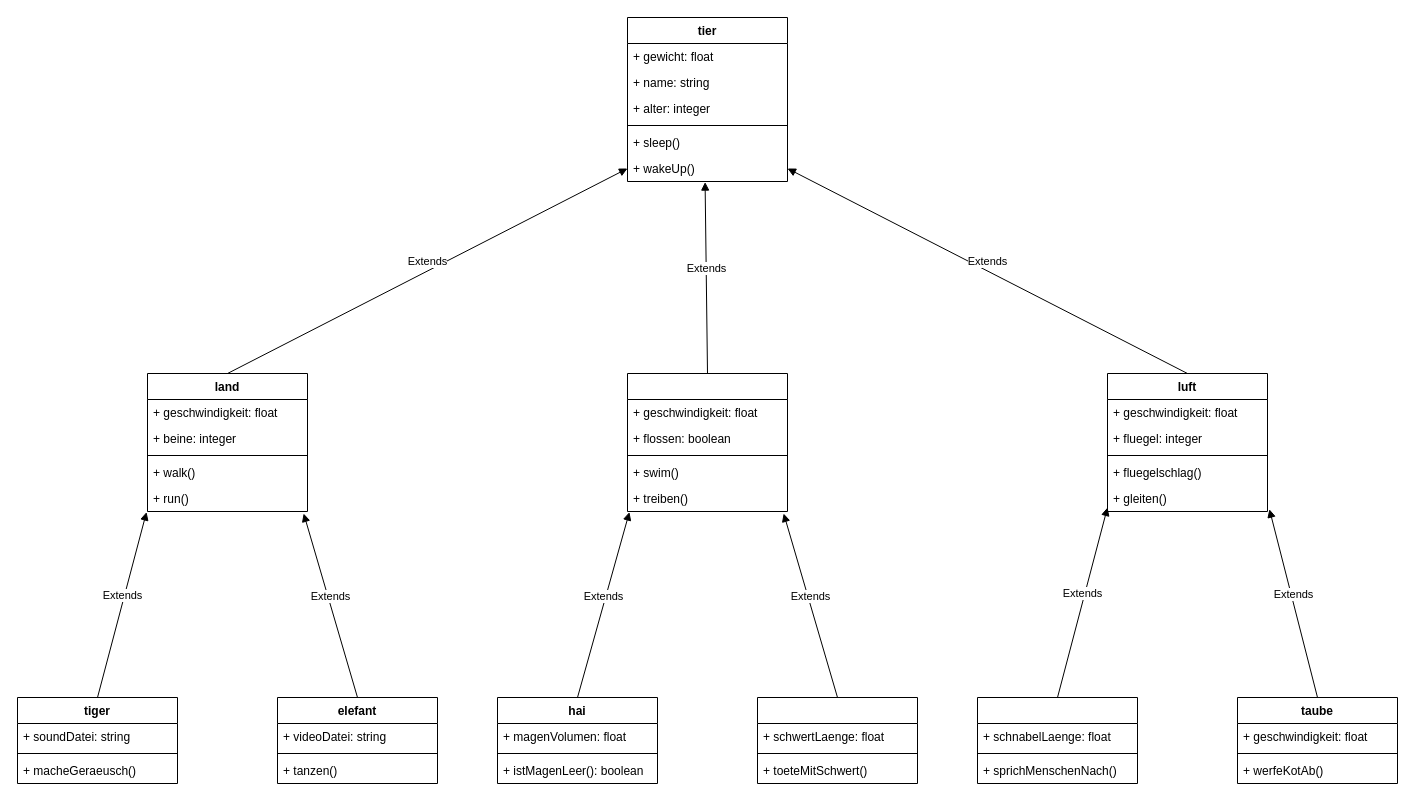
The diagram is 1415 pixels wide and 804 high, and some of its shapes have lost their labels. Here are the shapes that lost their labels. From the top down, the box of each, then its label:
(626, 372, 788, 512): wasser
(756, 696, 918, 784): hecht
(976, 696, 1138, 784): papagei
